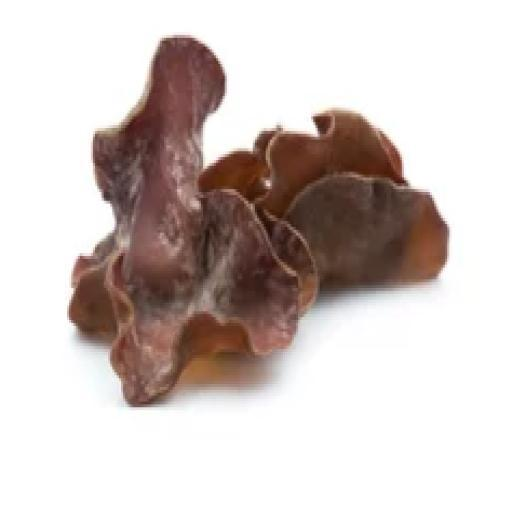mushroom: (57, 20, 453, 416)
